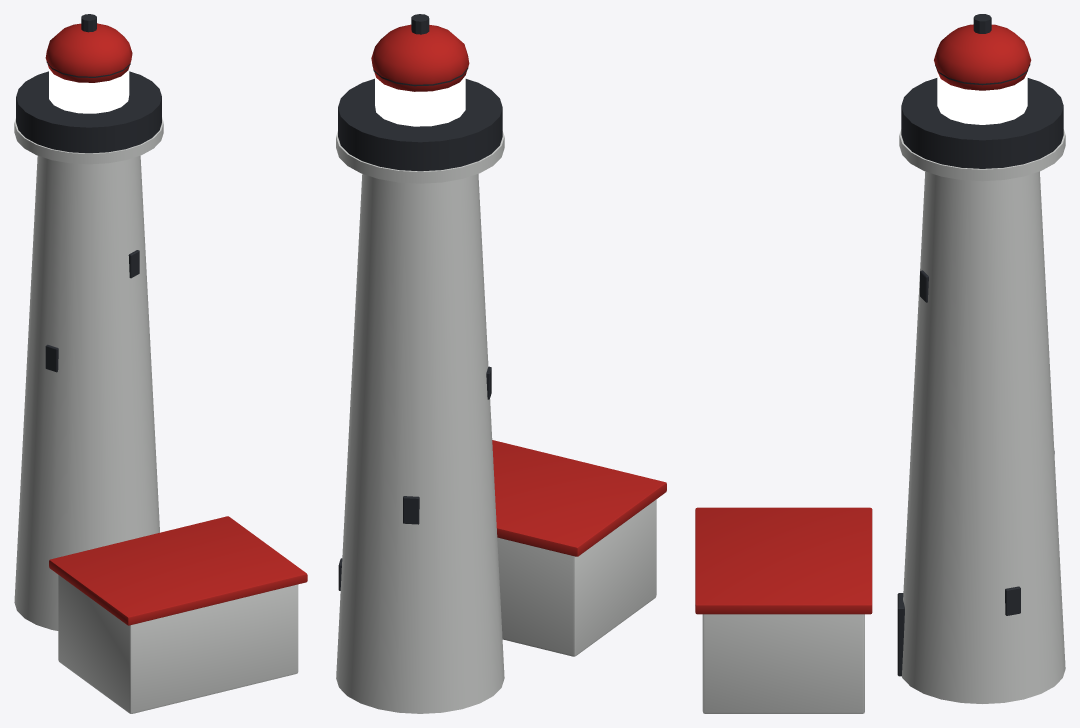
Rendered from lighthouse.glb.
The picture shows the model from 3 angles, left to right: view 1: azimuth 30°, elevation 25°; view 2: azimuth 150°, elevation 25°; view 3: azimuth 270°, elevation 25°; orthographic projection. The views are drawn at different scales.
Parts seen in each view (by area): view 1: lh_white, lh_red, lh_dark, lamp_white.001; view 2: lh_white, lh_red, lh_dark, lamp_white.001; view 3: lh_white, lh_red, lh_dark, lamp_white.001.
Part boxes in pixels (x1=…): lh_white: x1=14, y1=117, x2=298, y2=713; lh_red: x1=45, y1=23, x2=307, y2=625; lh_dark: x1=16, y1=14, x2=161, y2=372; lamp_white.001: x1=49, y1=68, x2=129, y2=113; lh_white: x1=336, y1=131, x2=656, y2=713; lh_red: x1=371, y1=24, x2=666, y2=556; lh_dark: x1=338, y1=14, x2=502, y2=590; lamp_white.001: x1=375, y1=75, x2=465, y2=126; lh_white: x1=702, y1=129, x2=1065, y2=713; lh_red: x1=695, y1=24, x2=1031, y2=614; lh_dark: x1=897, y1=14, x2=1063, y2=676; lamp_white.001: x1=937, y1=72, x2=1027, y2=124.
Size of the model in its own units: 6.4 by 19.9 by 10.25.
